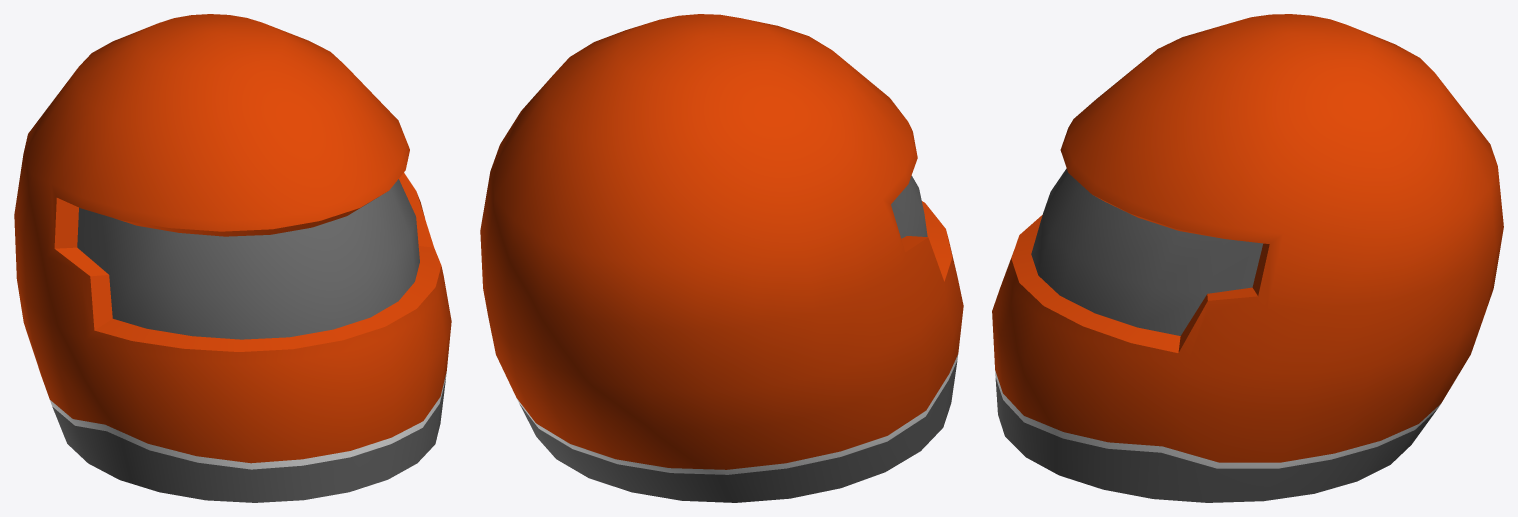
Rendered from Helmet_2.fbx.
3 views of the same model, side by side, from view 1: azimuth 30°, elevation 25°; view 2: azimuth 150°, elevation 25°; view 3: azimuth 270°, elevation 25° (orthographic). The views are drawn at different scales.
Parts seen in each view (by area): view 1: Helmet_2; view 2: Helmet_2; view 3: Helmet_2.
Part boxes in pixels (<box>): Helmet_2: <box>14,14,451,502</box>; Helmet_2: <box>480,14,963,502</box>; Helmet_2: <box>992,14,1503,502</box>.
Bounding box in the file's own units: 0.2881 × 0.2804 × 0.3336.
